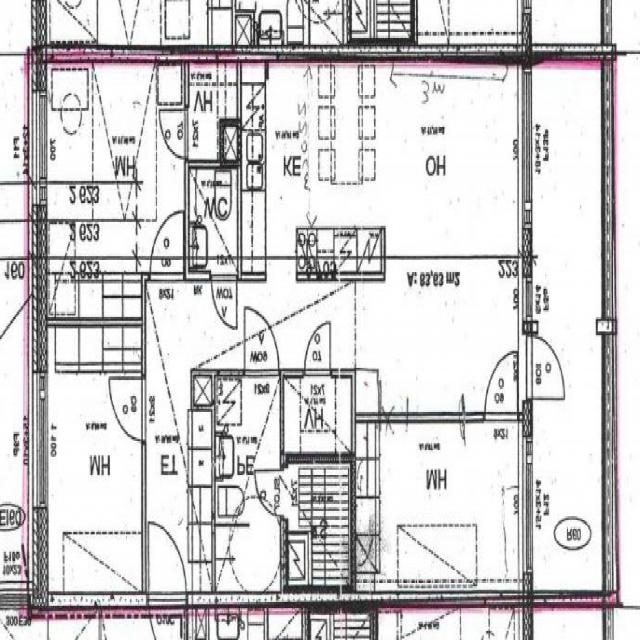door: (149, 520, 186, 606), (522, 335, 565, 398), (246, 306, 278, 377), (110, 378, 146, 440), (151, 214, 183, 281), (305, 320, 331, 377), (159, 109, 189, 157), (257, 470, 288, 514), (212, 274, 236, 330)
